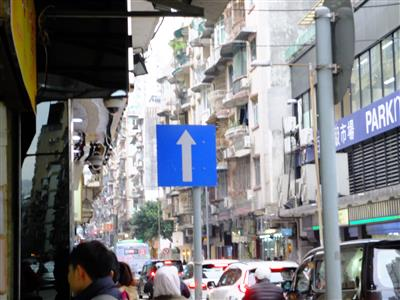oneway: (151, 118, 226, 194)
